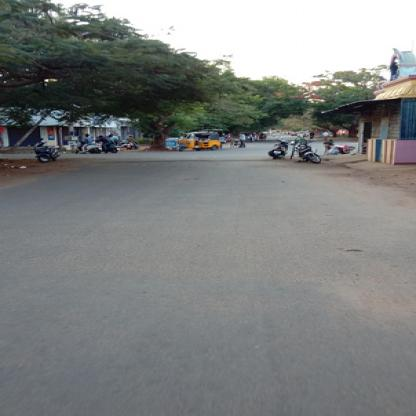speed-bumps: (78, 146, 292, 170)
